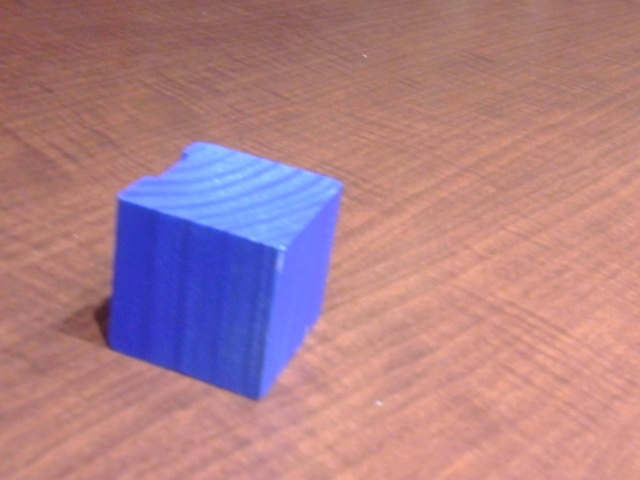BlueBlock: (109, 142, 343, 400)
